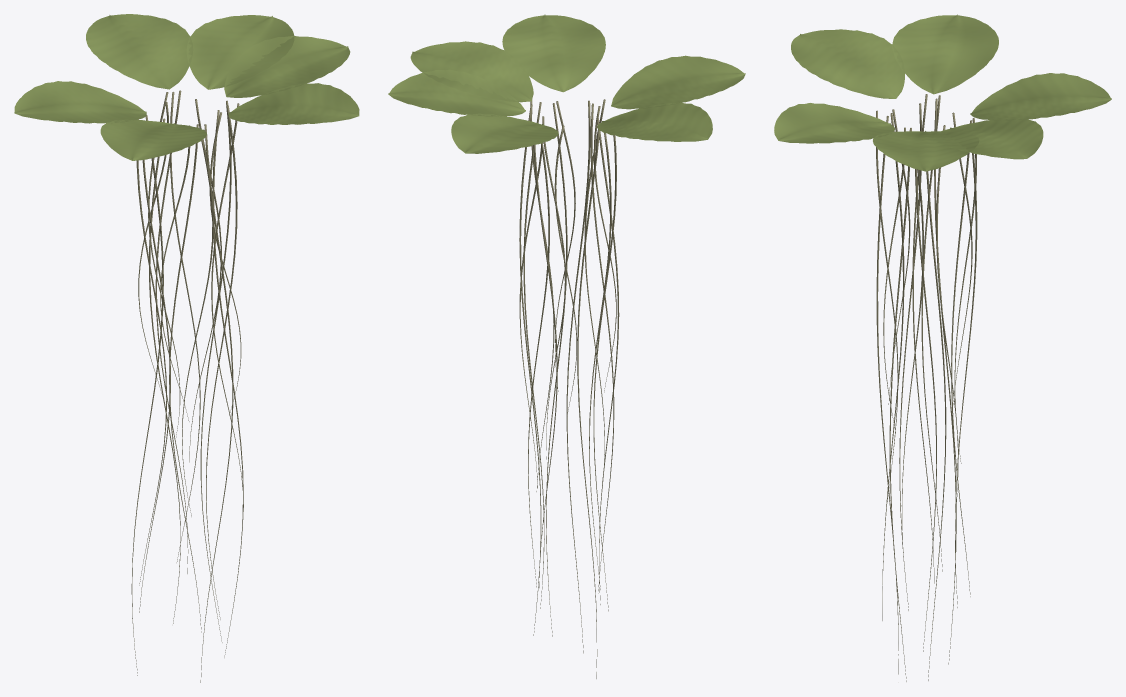
File: frogbit-desktop.glb
3 renders of one model, left to right at view 1: azimuth 30°, elevation 25°; view 2: azimuth 150°, elevation 25°; view 3: azimuth 270°, elevation 25°, orthographic. The views are drawn at different scales.
Parts seen in each view (by area): view 1: floating-leaf, hanging-root; view 2: floating-leaf, hanging-root; view 3: floating-leaf, hanging-root.
Boxes of the visible parts, bbox=[...] form: floating-leaf: bbox=[14, 14, 359, 160]; hanging-root: bbox=[131, 90, 243, 682]; floating-leaf: bbox=[388, 14, 745, 153]; hanging-root: bbox=[519, 99, 619, 678]; floating-leaf: bbox=[774, 14, 1111, 171]; hanging-root: bbox=[876, 94, 977, 681].
Bounding box in the file's own units: 0.4169 × 0.7408 × 0.3803.
